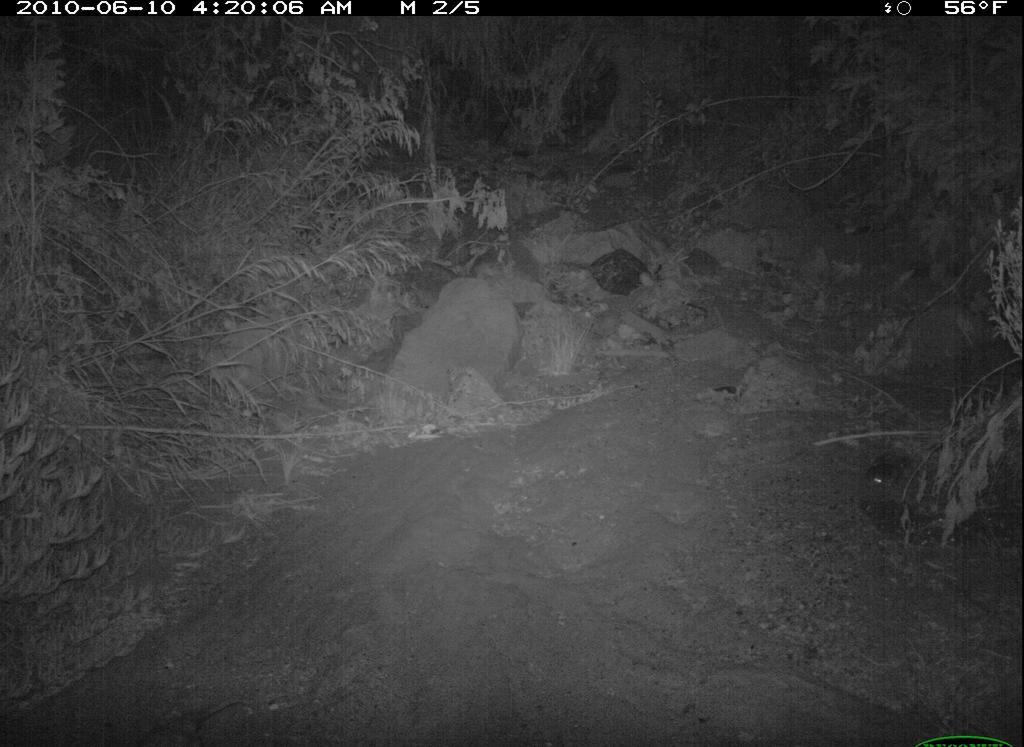opossum: (133, 694, 250, 747)
